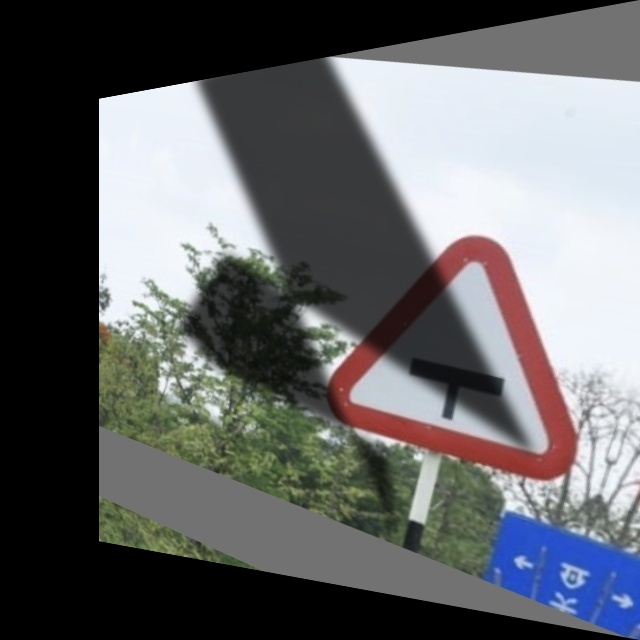T_Intersection: (306, 184, 639, 514)
